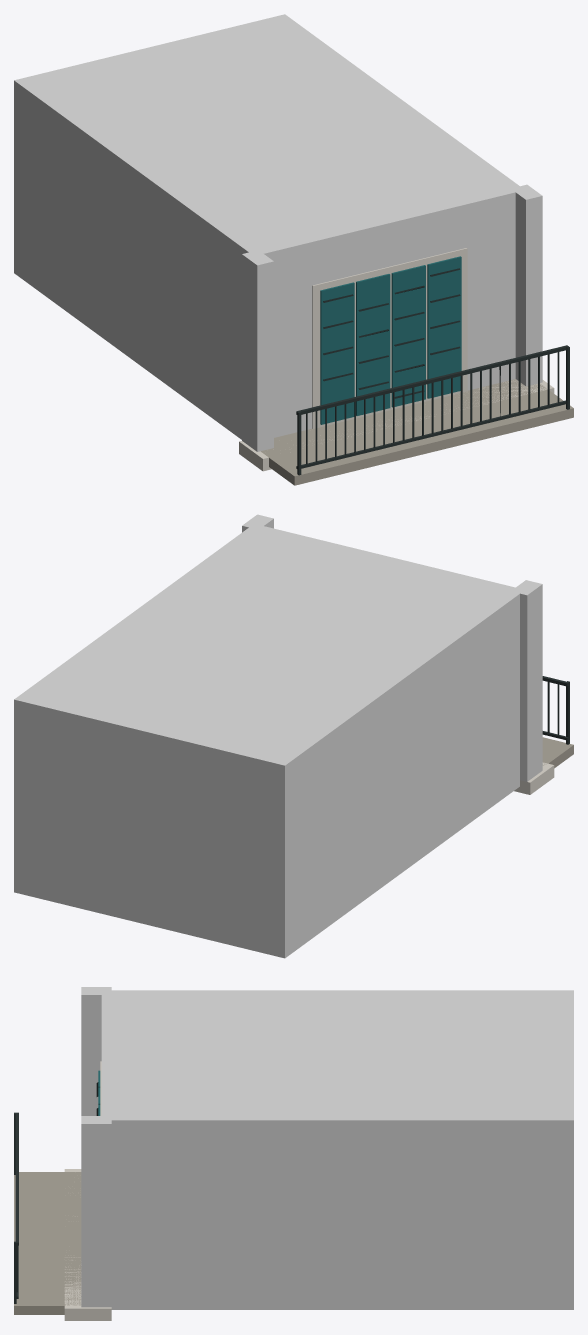
Rendered from lau_ban_cong_48.glb.
3 renders of one model, top to bottom at view 1: azimuth 30°, elevation 25°; view 2: azimuth 150°, elevation 25°; view 3: azimuth 270°, elevation 25°, orthographic.
Visible parts, largest first — view 1: lau_ban_cong_48; view 2: lau_ban_cong_48; view 3: lau_ban_cong_48.
Part boxes in pixels (x1,y1,x2,y2): lau_ban_cong_48: (14,14,573,485); lau_ban_cong_48: (14,514,573,958); lau_ban_cong_48: (14,987,573,1320).
Size of the model in its own units: 4.9 by 3.2 by 8.3.
